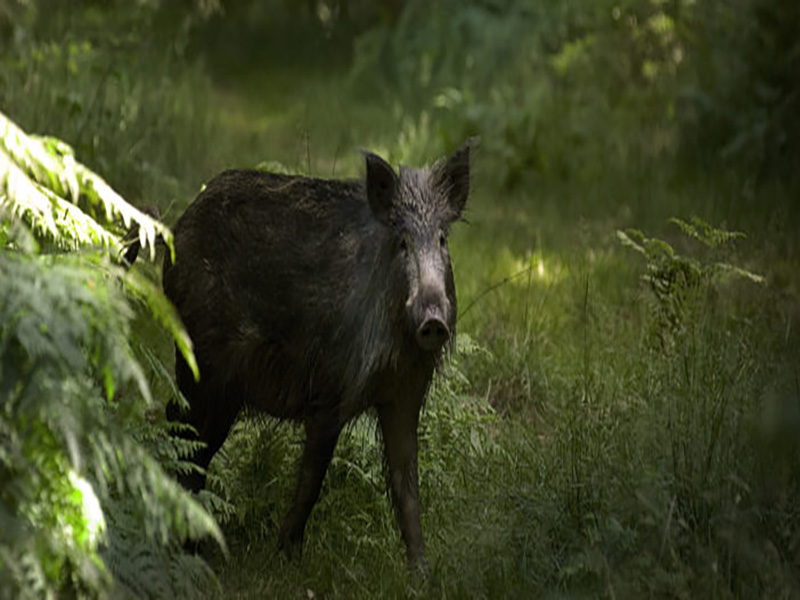cinghiale: (155, 148, 475, 562)
